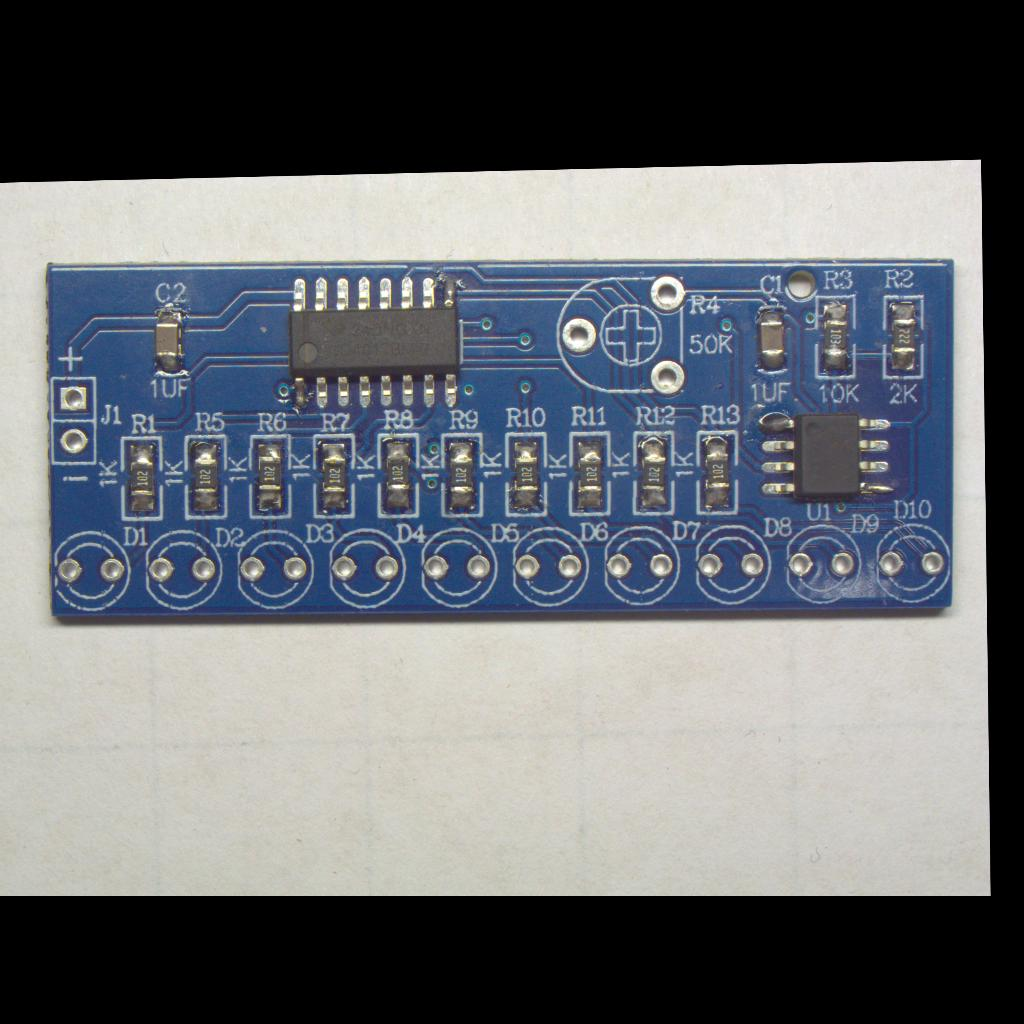OK: (284, 267, 470, 415), (752, 408, 904, 506), (117, 432, 165, 524), (694, 428, 742, 518), (438, 430, 486, 520), (376, 430, 422, 522), (182, 433, 230, 521), (630, 430, 678, 518), (310, 432, 358, 520), (504, 430, 550, 520), (568, 428, 614, 518), (248, 431, 294, 521), (880, 293, 928, 379), (812, 293, 858, 381), (753, 302, 795, 378), (152, 303, 190, 379)
